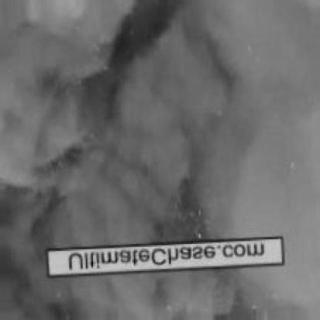Smoke: (22, 23, 310, 309)
